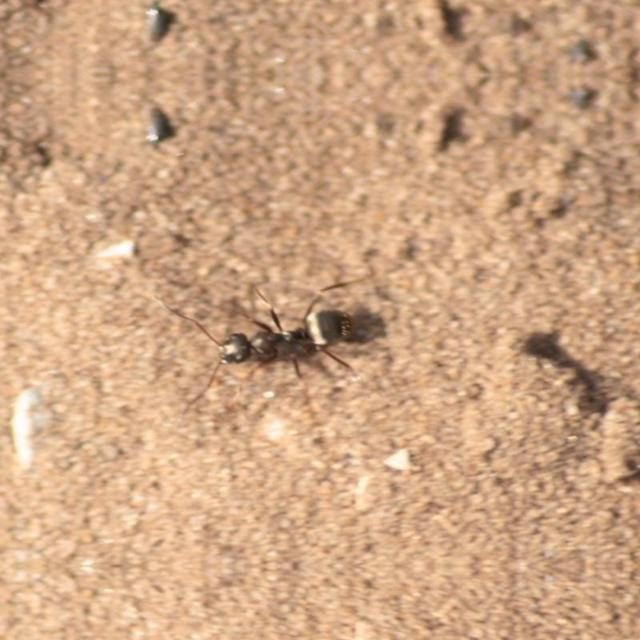Formica: (166, 279, 372, 385)
